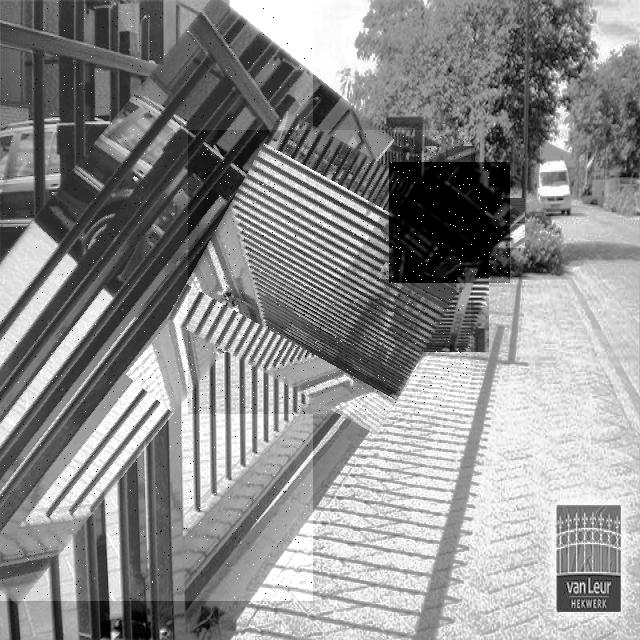fences: (0, 0, 313, 601), (188, 130, 471, 414), (389, 162, 510, 283)
